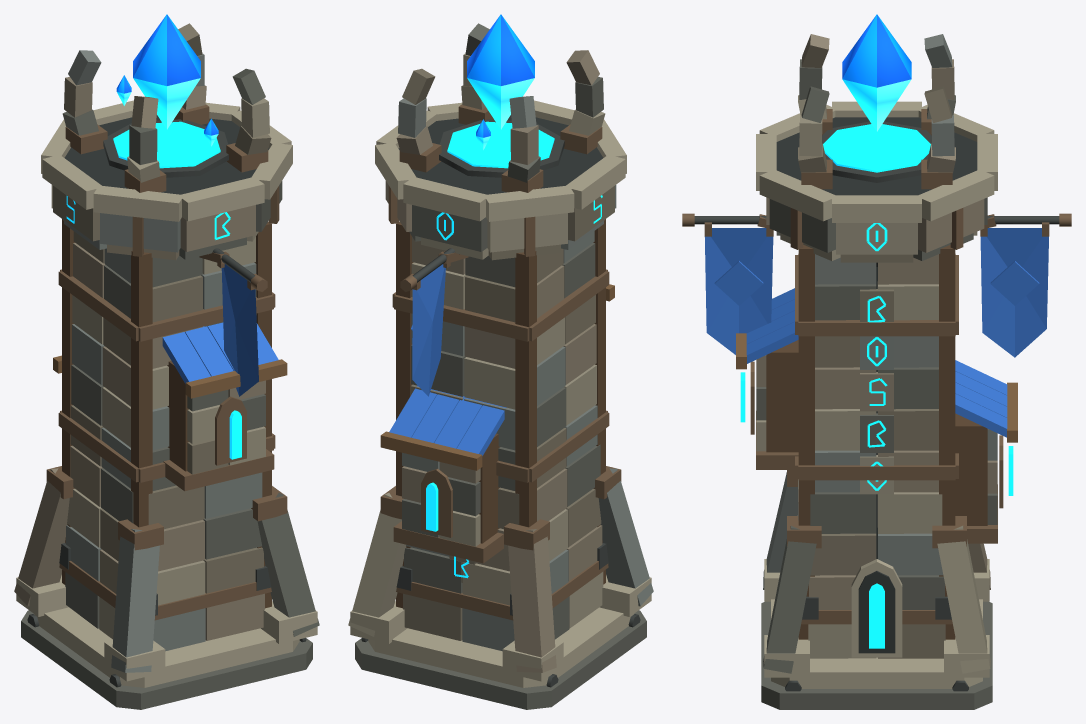
The picture shows the model from 3 angles, left to right: view 1: azimuth 30°, elevation 25°; view 2: azimuth 150°, elevation 25°; view 3: azimuth 270°, elevation 25°; orthographic projection. The views are drawn at different scales.
Visible parts, largest first — view 1: base-bottom, base-upper, timber-upright-3, buttress-3, main-floating-crystal, buttress-1, team-banner-0, buttress-2, crown-bowl-core, energy-well, crown-ashlar-2-3, crown-ashlar-2-2 (+84 smaller); view 2: base-bottom, base-upper, timber-upright-2, buttress-2, main-floating-crystal, crown-bowl-core, buttress-0, buttress-3, team-banner-1, timber-upright-0, energy-well, crown-ashlar-2-5 (+84 smaller); view 3: team-banner-1, team-banner-0, base-bottom, base-upper, main-floating-crystal, timber-upright-0, timber-upright-1, energy-well, crown-bowl-core, buttress-0, buttress-1, side-chamber-core-0 (+68 smaller).
Boxes of the visible parts, bbox=[...] form: base-bottom: bbox=[21, 610, 312, 709]; base-upper: bbox=[34, 607, 299, 687]; timber-upright-3: bbox=[131, 251, 152, 527]; buttress-3: bbox=[111, 529, 159, 672]; main-floating-crystal: bbox=[133, 14, 200, 129]; buttress-1: bbox=[257, 493, 319, 636]; team-banner-0: bbox=[221, 264, 258, 396]; buttress-2: bbox=[14, 468, 69, 606]; crown-bowl-core: bbox=[64, 115, 269, 194]; energy-well: bbox=[113, 121, 220, 168]; crown-ashlar-2-3: bbox=[93, 185, 182, 221]; crown-ashlar-2-2: bbox=[178, 177, 264, 221]; base-bottom: bbox=[355, 610, 646, 709]; base-upper: bbox=[368, 607, 633, 687]; timber-upright-2: bbox=[515, 251, 536, 527]; buttress-2: bbox=[508, 529, 556, 672]; main-floating-crystal: bbox=[467, 14, 534, 129]; crown-bowl-core: bbox=[398, 115, 603, 194]; buttress-0: bbox=[348, 493, 406, 636]; buttress-3: bbox=[598, 468, 653, 606]; team-banner-1: bbox=[412, 264, 445, 396]; timber-upright-0: bbox=[396, 221, 413, 608]; energy-well: bbox=[447, 121, 554, 168]; crown-ashlar-2-5: bbox=[484, 186, 574, 221]; team-banner-1: bbox=[980, 228, 1048, 357]; team-banner-0: bbox=[705, 228, 773, 354]; base-bottom: bbox=[761, 601, 992, 709]; base-upper: bbox=[771, 599, 982, 688]; main-floating-crystal: bbox=[842, 14, 911, 131]; timber-upright-0: bbox=[939, 245, 955, 639]; timber-upright-1: bbox=[798, 245, 814, 639]; energy-well: bbox=[823, 124, 930, 172]; crown-bowl-core: bbox=[776, 117, 977, 195]; buttress-0: bbox=[937, 525, 990, 673]; buttress-1: bbox=[763, 525, 816, 673]; side-chamber-core-0: bbox=[766, 340, 798, 452].
Bounding box in the file's own units: 0.982 × 2.9 × 1.58.
